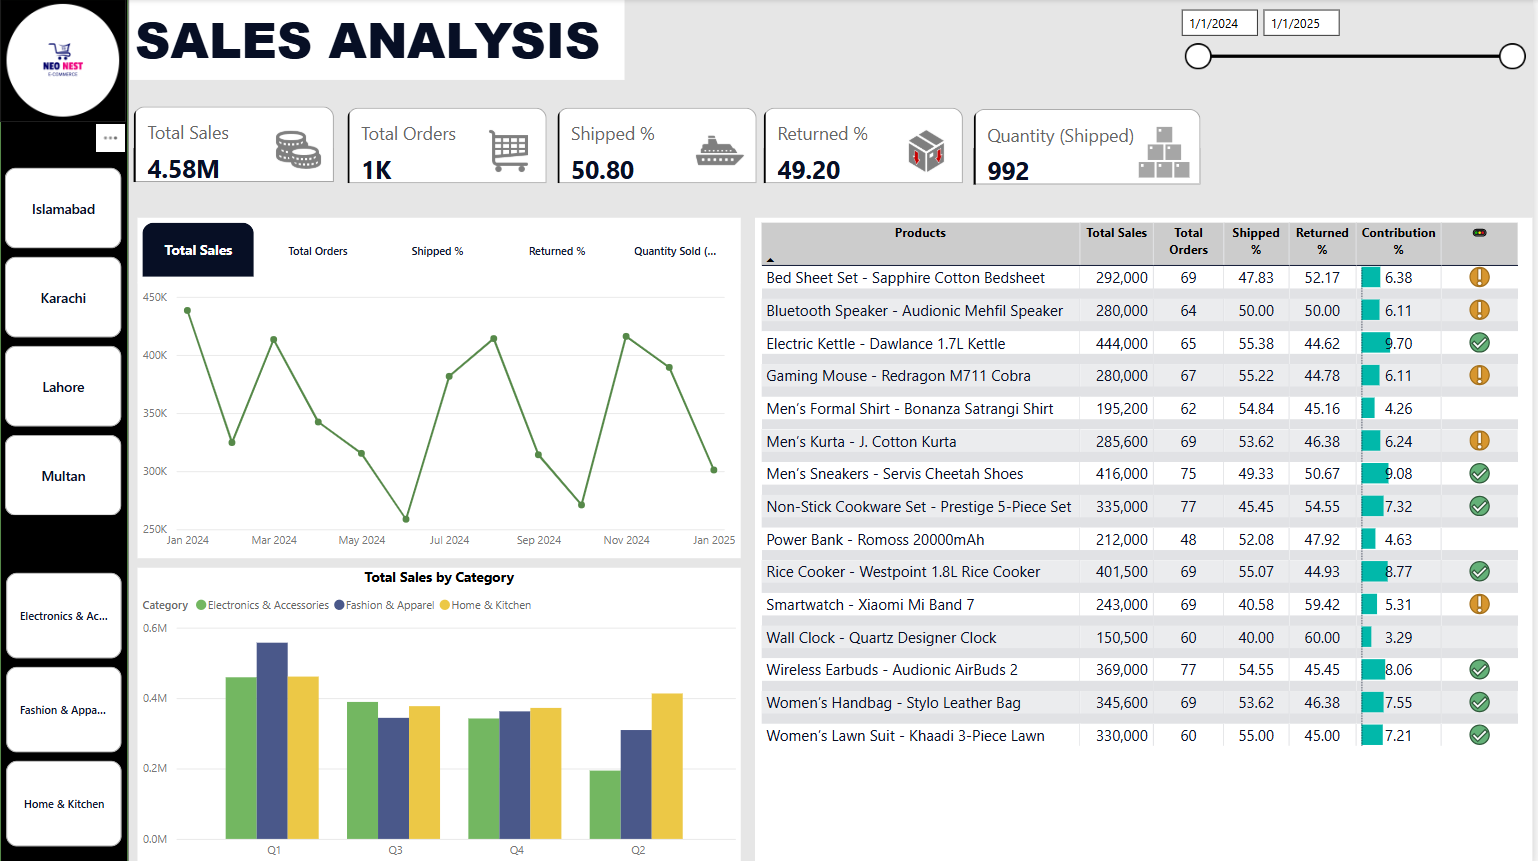

Layout of this report page (visuals, bound fields, positions):
{"tool":"powerbi","page":{"name":"Page 1","canvas":[1500,850],"ordinal":0},"visuals":[{"type":"shape","box":[0,0,125.4,850.3],"z":0},{"type":"lineChart","fields":{"Y":["MeasuresTable.Total Sales"],"Category":["DateTable.Start of Month.Variation.Date Hierarchy.Year","DateTable.Start of Month.Variation.Date Hierarchy.Quarter","DateTable.Start of Month.Variation.Date Hierarchy.Month","DateTable.Start of Month.Variation.Date Hierarchy.Day"]},"box":[134.7,277.8,590.3,269.4],"z":1000},{"type":"advancedSlicerVisual","title":"Measure Selector","fields":{"Values":["Measures Selector.Measures Selector"]},"box":[134.7,213.9,590.3,63.9],"z":2000},{"type":"tableEx","fields":{"Values":["Query1.Products","MeasuresTable.Total Sales","MeasuresTable.Total Orders","MeasuresTable.Shipped %","MeasuresTable.Returned %","MeasuresTable.Product Sales Contribution %","MeasuresTable.Contribution Indicator"]},"box":[738.9,213.9,761.1,636.1],"z":3000},{"type":"advancedSlicerVisual","fields":{"Values":["Query1.CityName"]},"box":[0,160.8,124,352.9],"z":4000},{"type":"advancedSlicerVisual","fields":{"Values":["Query1.Category"]},"box":[1.4,556.9,123.6,280.6],"z":5000},{"type":"slicer","fields":{"Values":["DateTable.Start of Month"]},"box":[1143.3,0,357,91.3],"z":6000},{"type":"cardVisual","fields":{"Data":["MeasuresTable.Returned %"]},"box":[743.1,101.6,205.6,84.7],"z":7000},{"type":"cardVisual","fields":{"Data":["MeasuresTable.Shipped %"]},"box":[540.3,101.6,205.6,84.7],"z":8000},{"type":"cardVisual","fields":{"Data":["MeasuresTable.Total Sales"]},"box":[126.6,100.3,206.9,84.7],"z":9000},{"type":"cardVisual","fields":{"Data":["MeasuresTable.Total Orders"]},"box":[334.7,101.6,205.6,84.7],"z":10000},{"type":"cardVisual","fields":{"Data":["MeasuresTable.QuantitySold(Shipped)"]},"box":[948.6,103,232,84.7],"z":11000},{"type":"clusteredColumnChart","title":"Total Sales by Category","fields":{"Category":["DateTable.Quarter"],"Series":["Query1.Category"],"Y":["MeasuresTable.Total Sales"]},"box":[134.7,556.9,590.3,293.1],"z":12000},{"type":"image","box":[0,0,124,121.3],"z":13000},{"type":"textbox","box":[126.7,0,483.7,79],"z":14000}]}

Visuals, with their boxes in screenshot pixels (x1, y1, x2, y2), scaled from the page's 1500x850 canvas onto the 1538x861 screenshot:
shape: left=0, top=0, right=129, bottom=860
lineChart - MeasuresTable.Total Sales x DateTable.Start of Month.Variation.Date Hierarchy.Year: left=138, top=281, right=743, bottom=554
"Measure Selector" advancedSlicerVisual: left=138, top=217, right=743, bottom=281
tableEx - Query1.Products x MeasuresTable.Total Sales: left=758, top=217, right=1537, bottom=860
advancedSlicerVisual - Query1.CityName: left=0, top=163, right=127, bottom=520
advancedSlicerVisual - Query1.Category: left=1, top=564, right=128, bottom=848
slicer - DateTable.Start of Month: left=1172, top=0, right=1537, bottom=92
cardVisual - MeasuresTable.Returned %: left=762, top=103, right=973, bottom=189
cardVisual - MeasuresTable.Shipped %: left=554, top=103, right=765, bottom=189
cardVisual - MeasuresTable.Total Sales: left=130, top=102, right=342, bottom=187
cardVisual - MeasuresTable.Total Orders: left=343, top=103, right=554, bottom=189
cardVisual - MeasuresTable.QuantitySold(Shipped): left=973, top=104, right=1211, bottom=190
"Total Sales by Category" clusteredColumnChart: left=138, top=564, right=743, bottom=860
image: left=0, top=0, right=127, bottom=123
textbox: left=130, top=0, right=626, bottom=80
